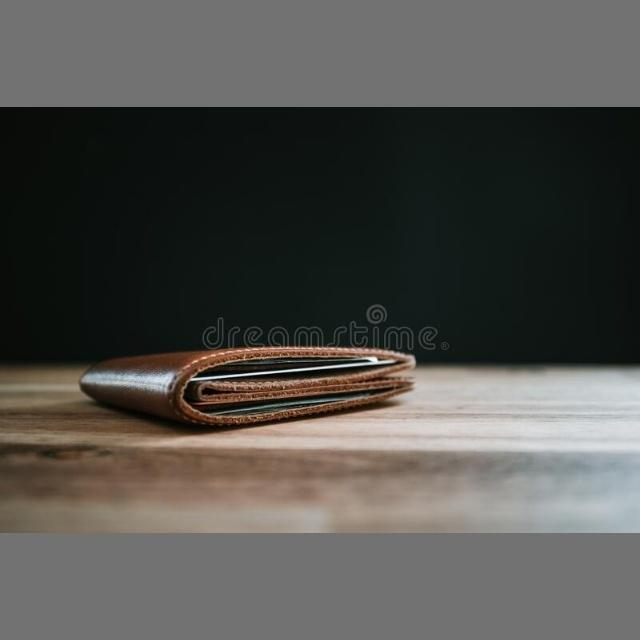Wallet: (80, 324, 466, 464)
